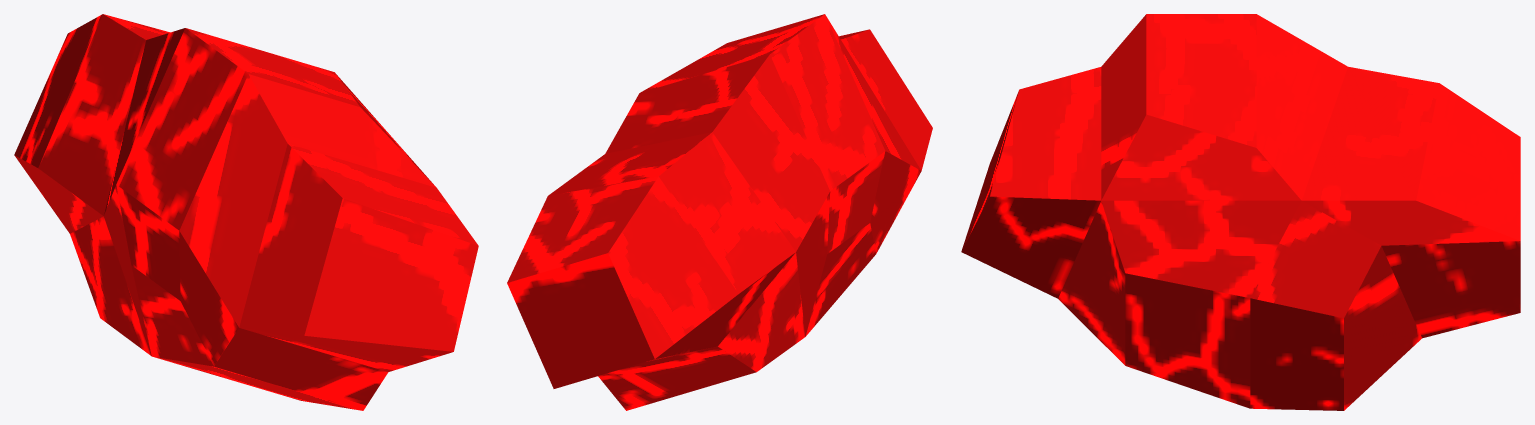
Rendered from bala.glb.
3 views of the same model, side by side, from view 1: azimuth 30°, elevation 25°; view 2: azimuth 150°, elevation 25°; view 3: azimuth 270°, elevation 25° (orthographic). The views are drawn at different scales.
Visible parts, largest first — view 1: Object012_Material #48_0; view 2: Object012_Material #48_0; view 3: Object012_Material #48_0.
Part boxes in pixels (left/top/right/bottom): Object012_Material #48_0: left=14, top=14, right=478, bottom=410; Object012_Material #48_0: left=507, top=14, right=932, bottom=410; Object012_Material #48_0: left=961, top=14, right=1520, bottom=410.
Size of the model in its own units: 4.18 by 6.05 by 8.8.
